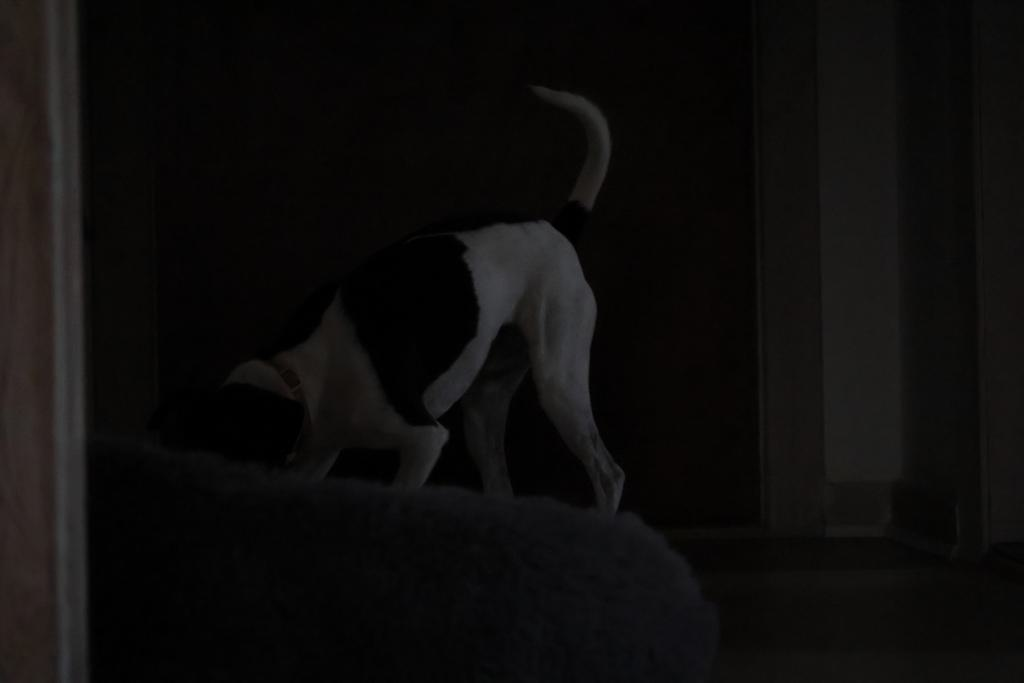Dog: (126, 70, 626, 539)
